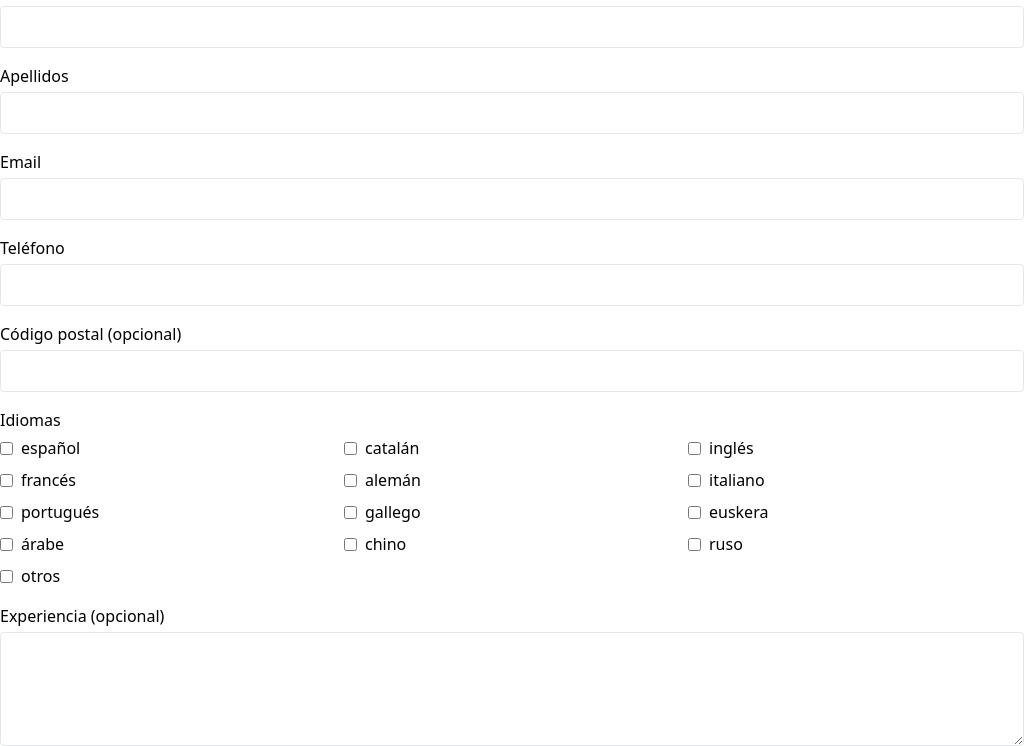
Test: RegistroForm › submit button is disabled while submitting
The width and height of the screenshot is (1024, 746).
In the field labelled "Nombre": (512, 27) [0,6,1023,48], type "Ana"
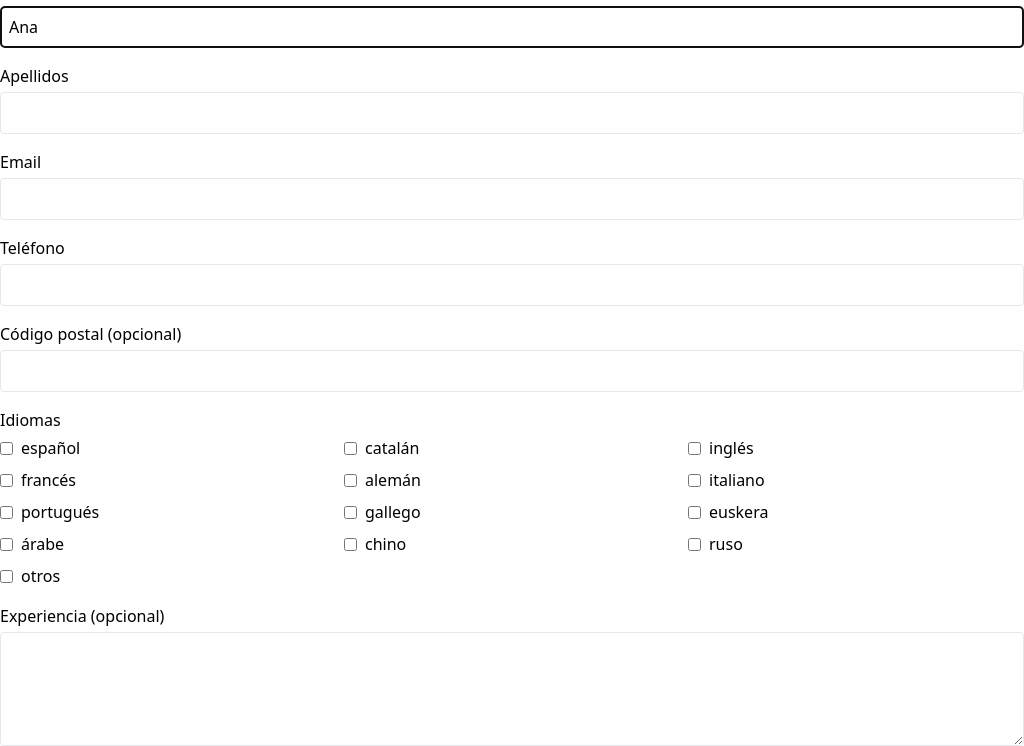
In the field labelled "Apellidos": (512, 113) [0,92,1023,134], type "López"
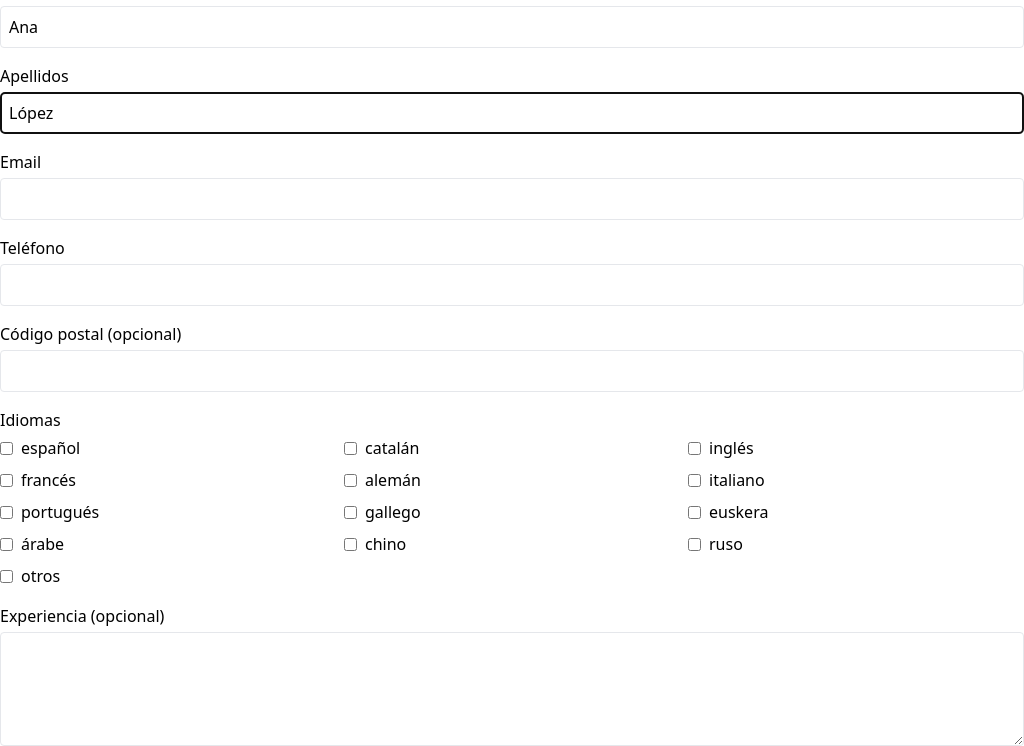
In the field labelled "Email": (512, 199) [0,178,1023,220], type "a@b.com"
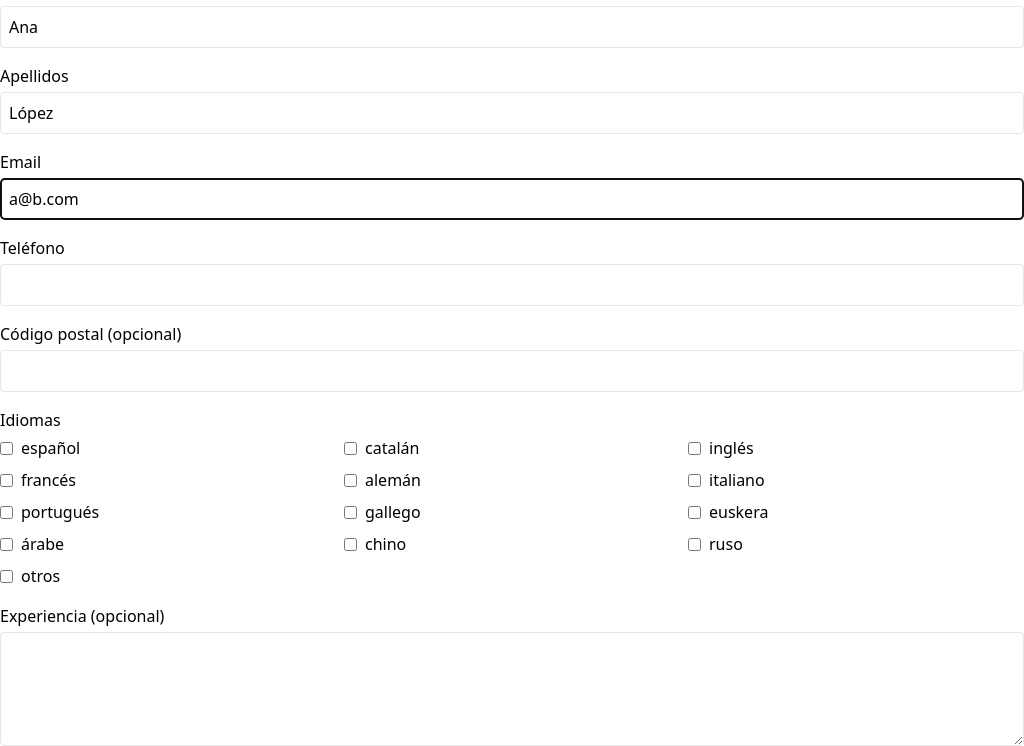
In the field labelled "Teléfono": (512, 285) [0,264,1023,306], type "600000000"
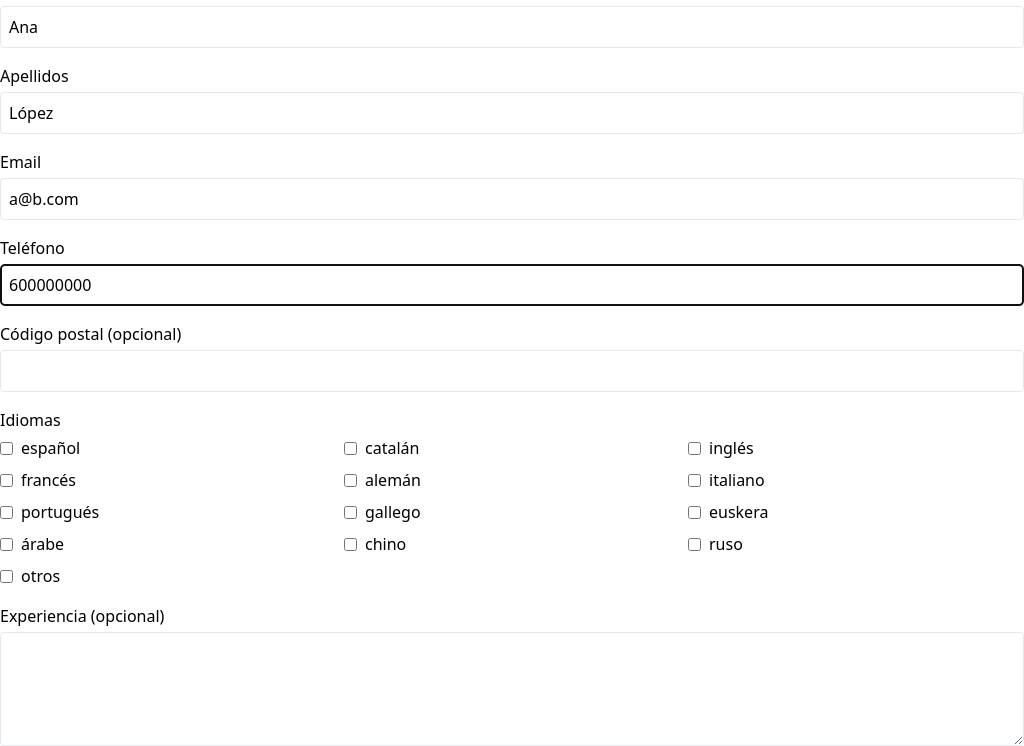
Click the checkbox labelled "español": (6, 448) [0,442,13,454]
(page scrolled)
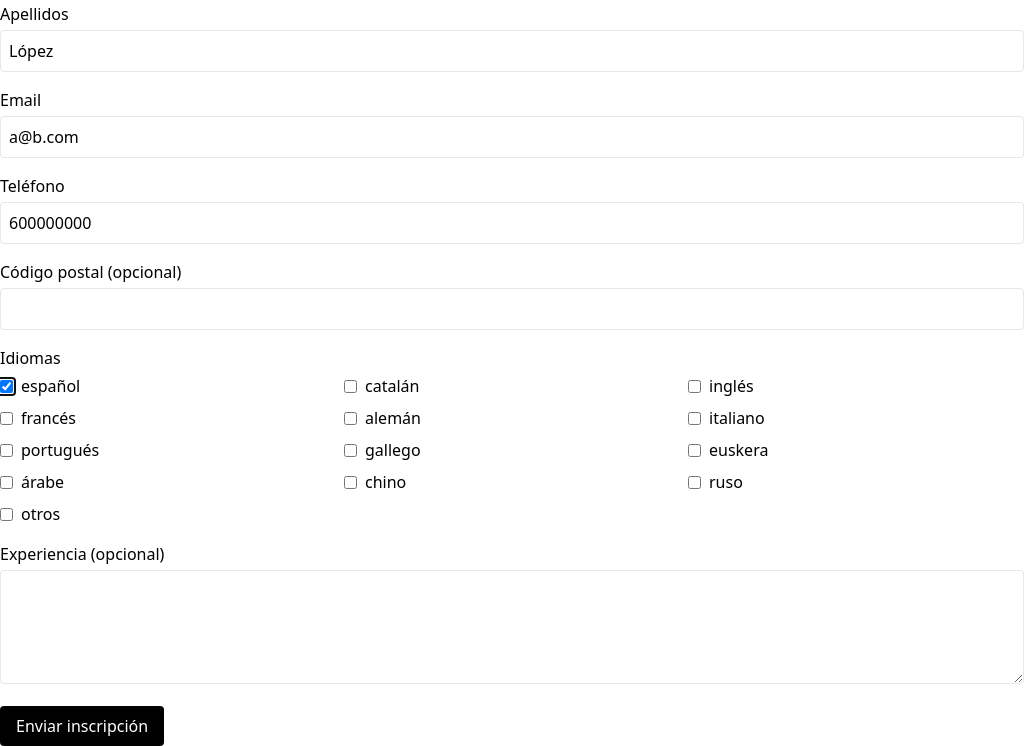
Click the button "Enviar inscripción": (82, 726) [0,706,164,745]
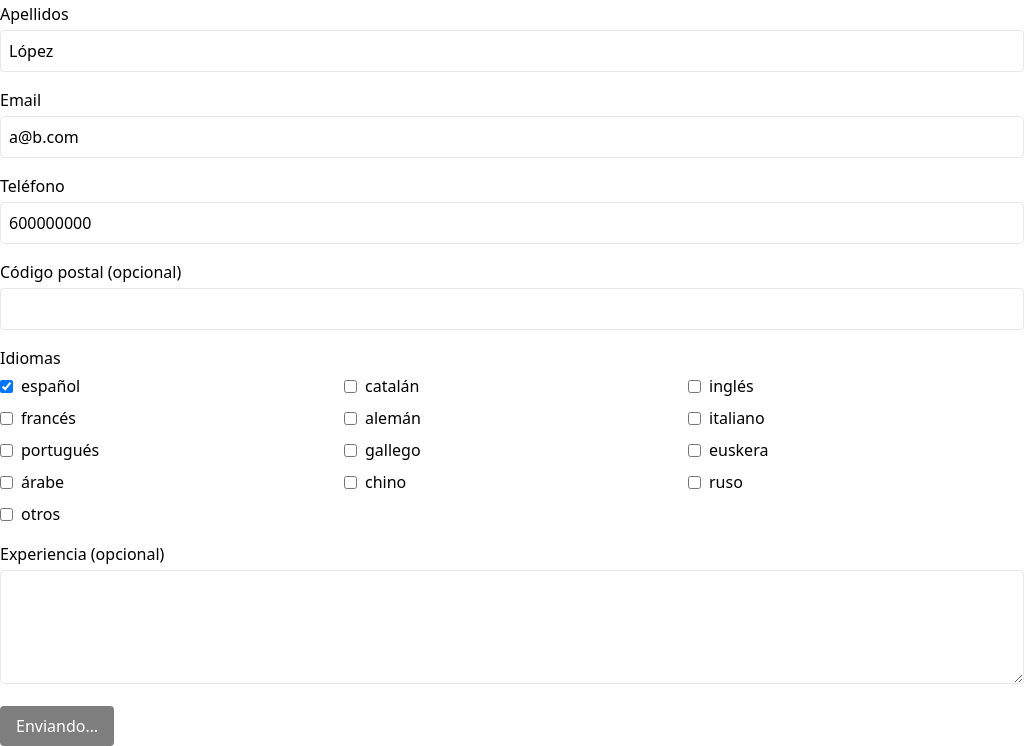
Check: the button "Enviando…" is disabled, box [0,706,114,745]
